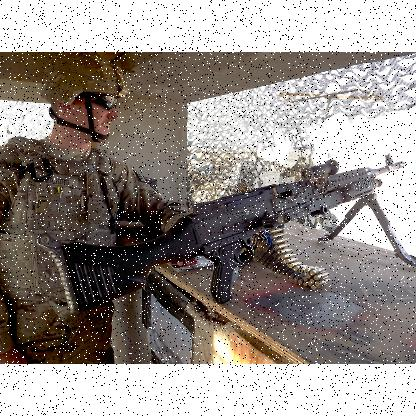gun: (34, 160, 406, 312)
